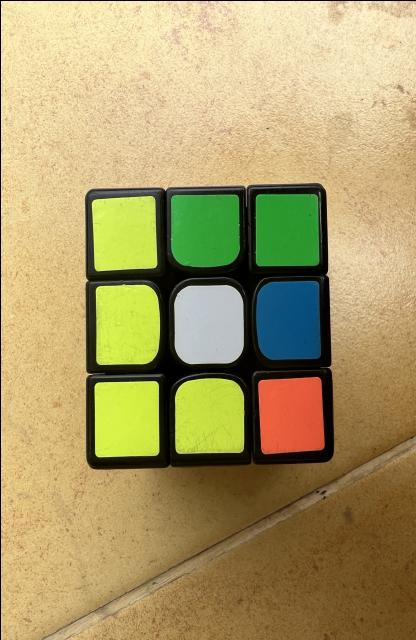Blue: (256, 280, 320, 359)
Green: (170, 194, 239, 266), (255, 192, 318, 265)
Orange: (257, 376, 324, 454)
White: (173, 284, 243, 364)
Yellow: (94, 284, 159, 364), (174, 378, 244, 452), (93, 380, 158, 456), (91, 195, 156, 270)
